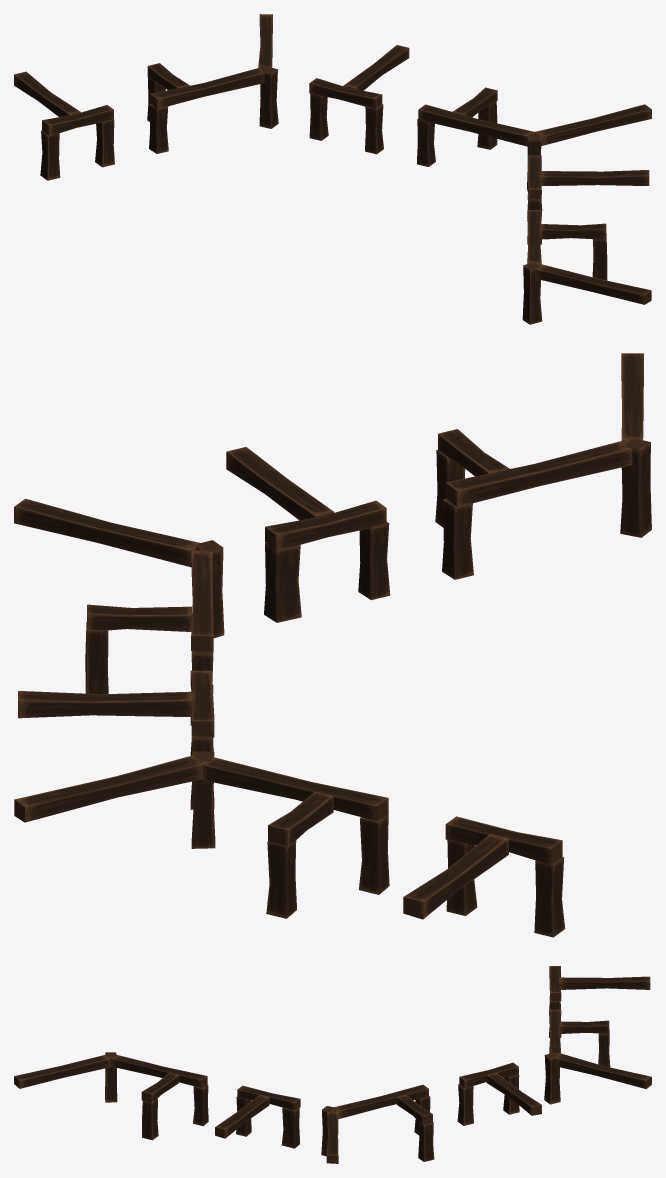
Rendered from WoodenPillars.fbx.
3 views of the same model, one above another, from view 1: azimuth 30°, elevation 25°; view 2: azimuth 150°, elevation 25°; view 3: azimuth 270°, elevation 25° (orthographic). The views are drawn at different scales.
Parts seen in each view (by area): view 1: MOD_Column_01_large_2.004; view 2: MOD_Column_01_large_2.004; view 3: MOD_Column_01_large_2.004.
Part boxes in pixels (bbox=[...]): MOD_Column_01_large_2.004: bbox=[14, 14, 651, 324]; MOD_Column_01_large_2.004: bbox=[14, 353, 651, 937]; MOD_Column_01_large_2.004: bbox=[14, 966, 651, 1163].
Size of the model in its own units: 29.45 by 3.29 by 41.78.
2 materials, 2 textured.
